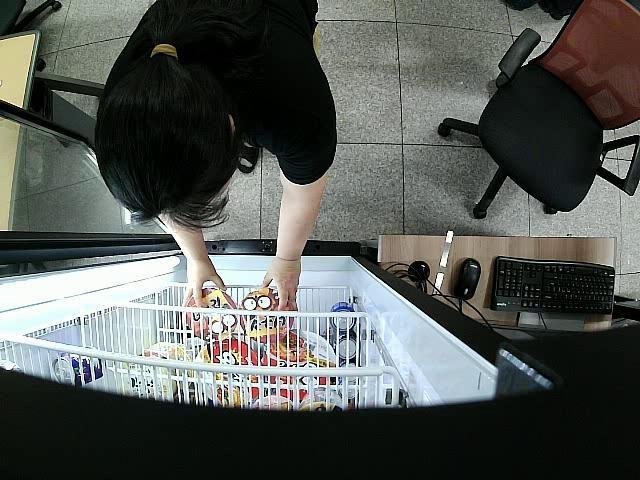05_nuguri_L: (240, 286, 296, 344), (184, 286, 240, 342)
